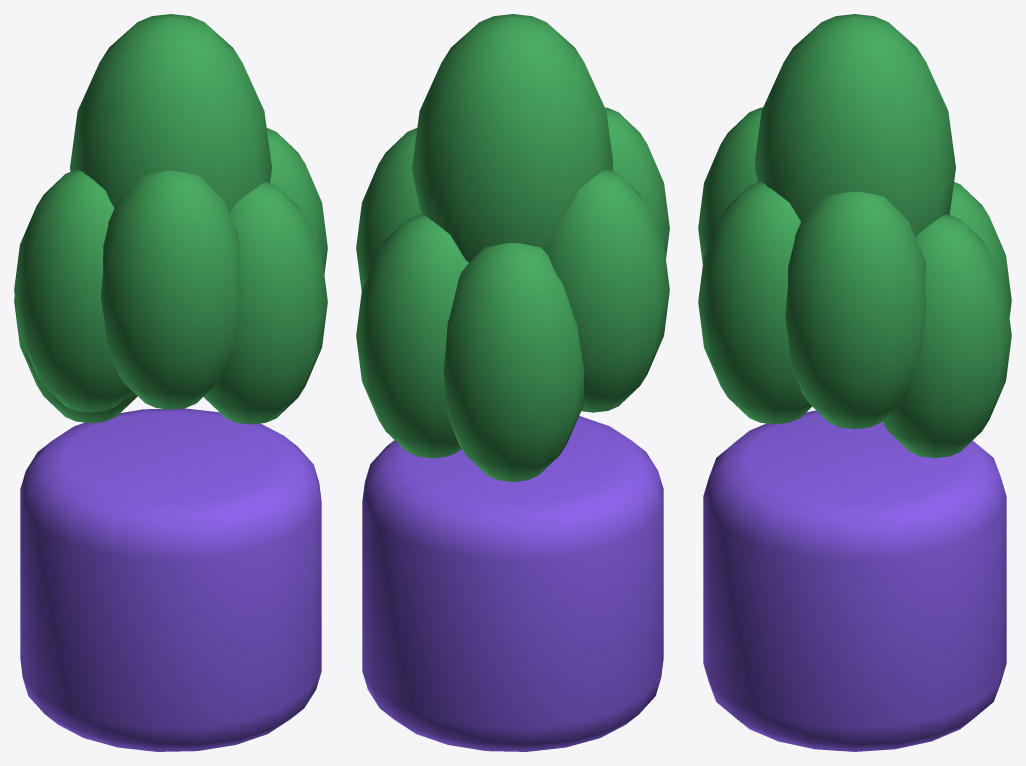
File: plant.glb
The picture shows the model from 3 angles, left to right: view 1: azimuth 30°, elevation 25°; view 2: azimuth 150°, elevation 25°; view 3: azimuth 270°, elevation 25°; orthographic projection.
Parts seen in each view (by area): view 1: Plant; view 2: Plant; view 3: Plant.
Boxes of the visible parts, x1=… form: Plant: x1=14, y1=14, x2=327, y2=751; Plant: x1=356, y1=14, x2=669, y2=751; Plant: x1=698, y1=14, x2=1011, y2=751.
Size of the model in its own units: 0.402 by 0.895 by 0.3725.
